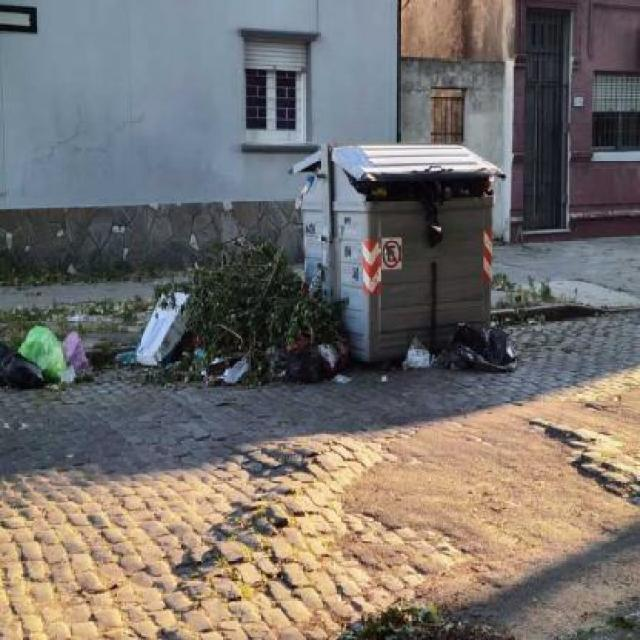garbage: (152, 249, 343, 393), (391, 308, 516, 389), (2, 322, 110, 414), (366, 174, 497, 222)
